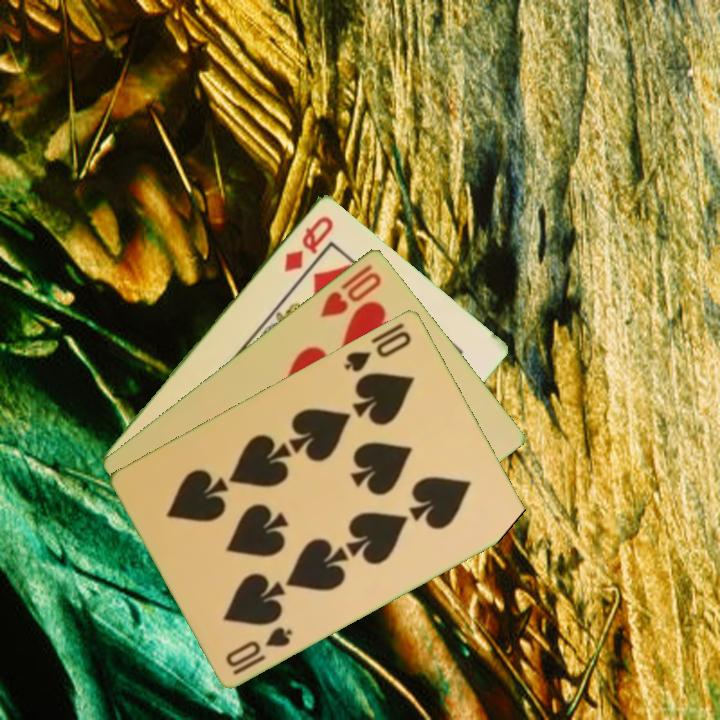10h: (316, 260, 385, 320)
10s: (222, 622, 296, 677), (340, 326, 415, 374)
Qd: (280, 212, 337, 275)
